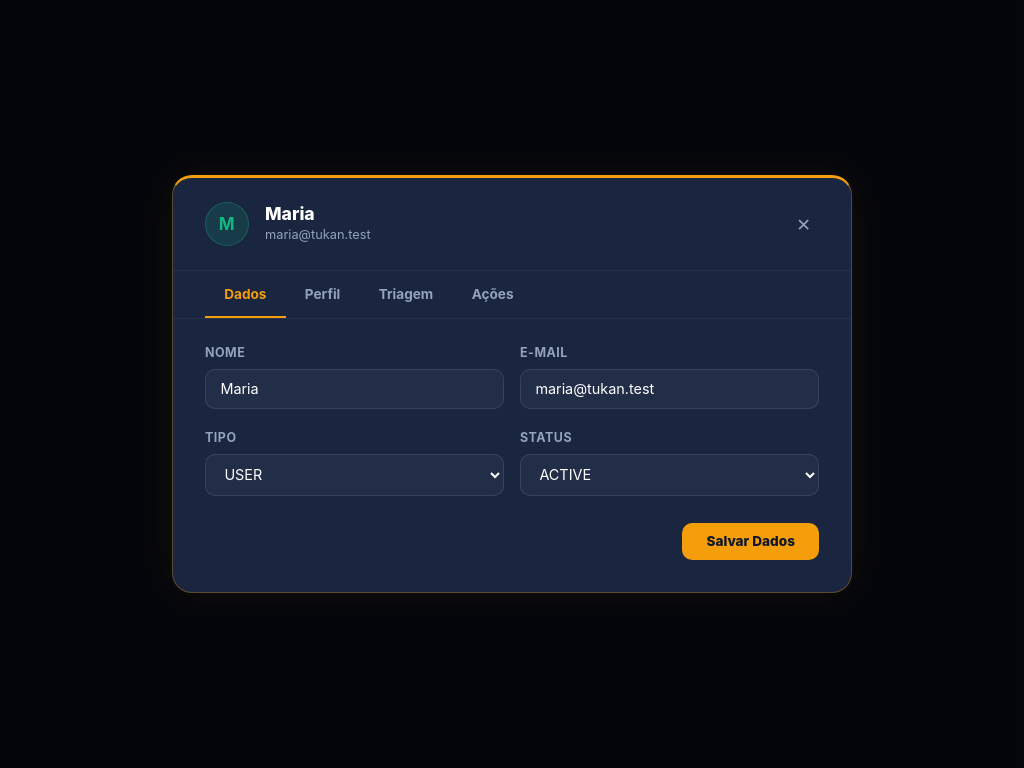
Test: AdminUserModal — isSelf guard › enables Revogar Sessões and Deletar Usuário buttons when isSelf=false
Click the button with class "tab-btn" showing "Ações" at (493,295), box [452,271,533,318]
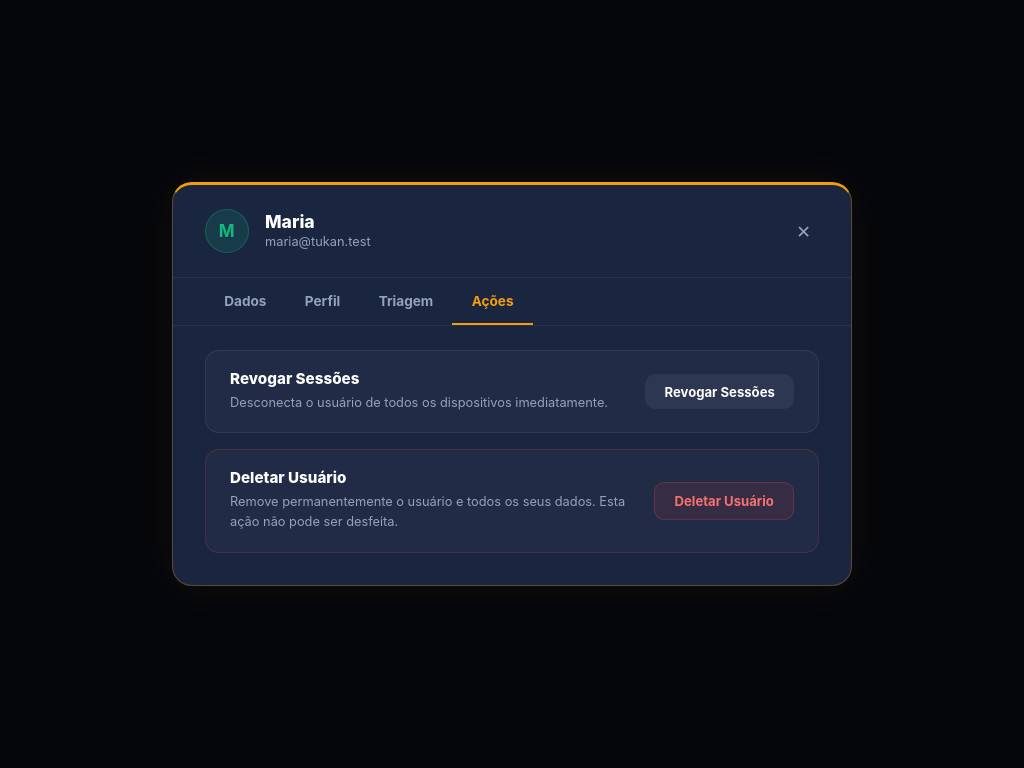
expect the button with class "btn-acao" showing "Revogar Sessões" is enabled: met, box [645,374,794,409]
expect the button with class "btn-acao" showing "Deletar Usuário" is enabled: met, box [654,482,794,520]
